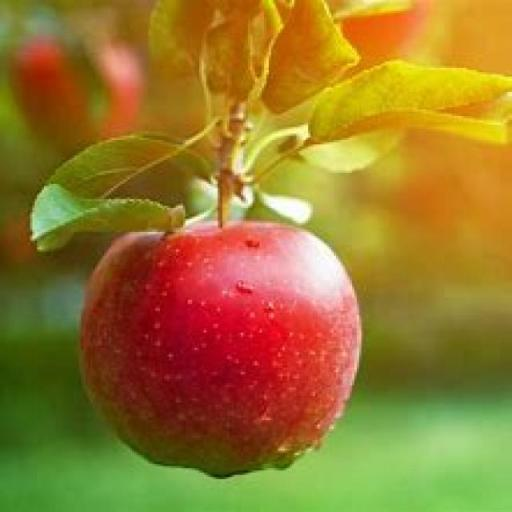fruit: (82, 223, 360, 475), (12, 36, 91, 151)
